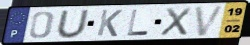0: (28, 10, 56, 39)
K: (95, 9, 124, 38)
L: (126, 9, 151, 37)
U: (55, 9, 91, 40)
V: (193, 4, 227, 38)
X: (158, 7, 193, 37)
